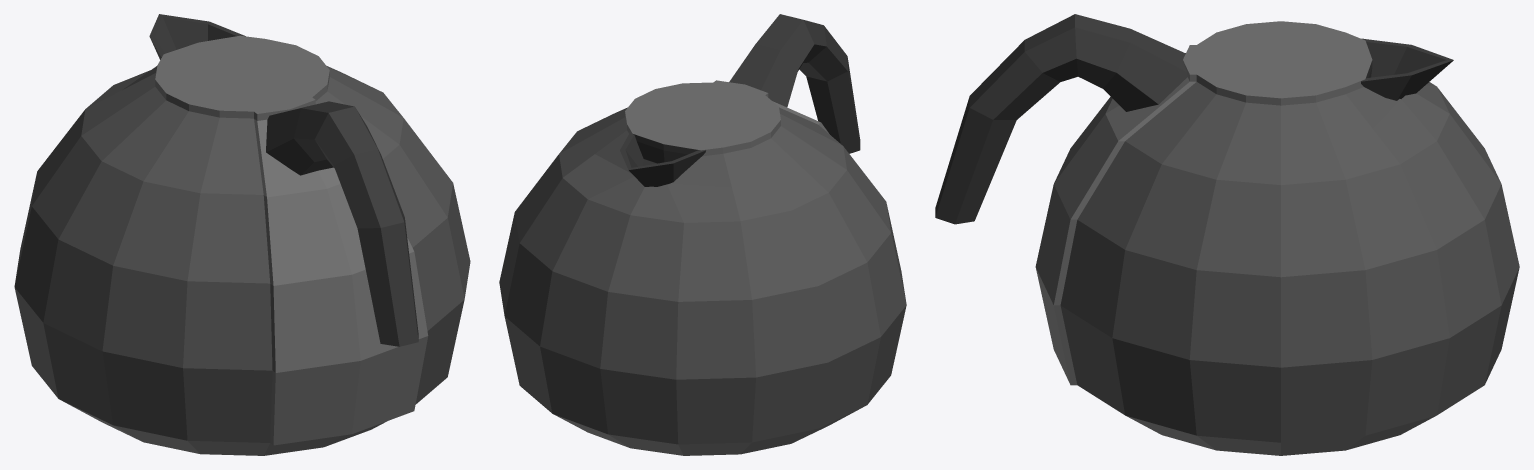
The model's file is Coffee_01.fbx.
The picture shows the model from 3 angles, left to right: view 1: azimuth 30°, elevation 25°; view 2: azimuth 150°, elevation 25°; view 3: azimuth 270°, elevation 25°; orthographic projection. The views are drawn at different scales.
Visible parts, largest first — view 1: Coffee_01; view 2: Coffee_01; view 3: Coffee_01.
Part boxes in pixels (left/top/right/bottom): Coffee_01: left=14, top=14, right=470, bottom=455; Coffee_01: left=499, top=14, right=906, bottom=455; Coffee_01: left=935, top=14, right=1519, bottom=455.
Size of the model in its own units: 23.39 by 19.68 by 28.64.
